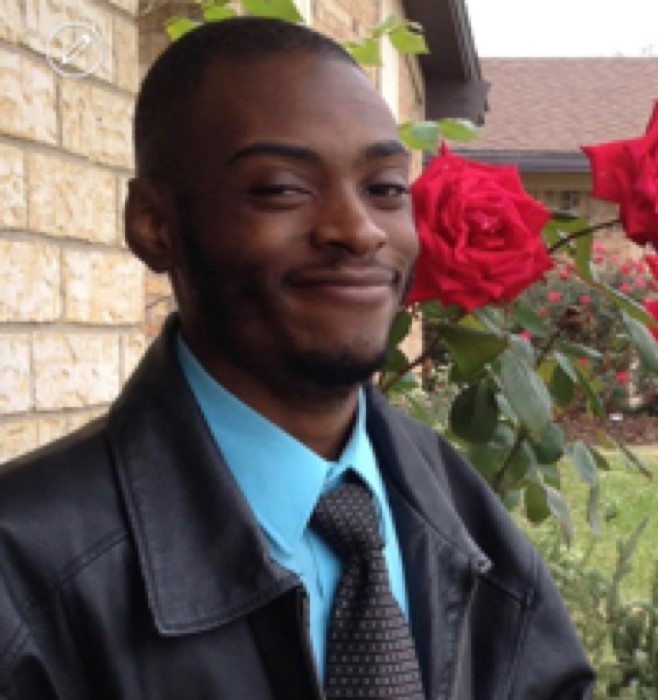face_no_mask: (141, 38, 417, 386)
